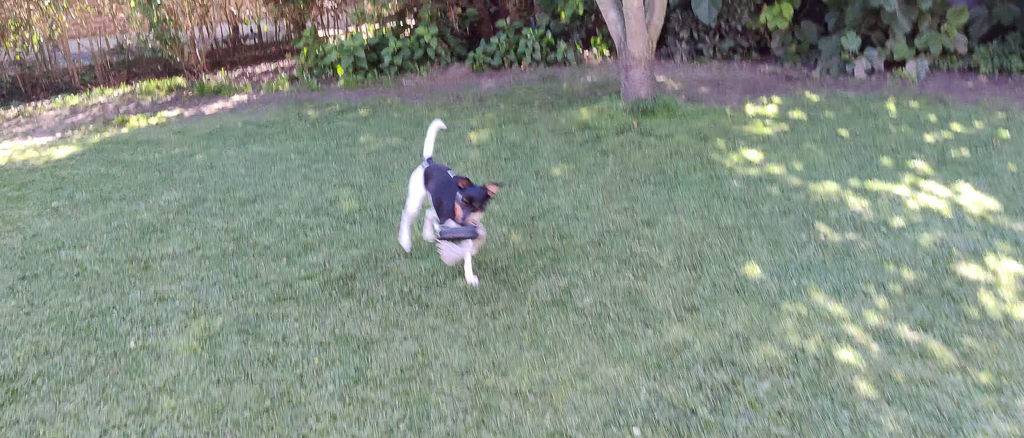Dog: (389, 112, 514, 295)
